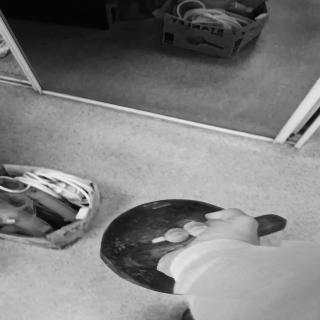kettlebell: (97, 198, 286, 300)
